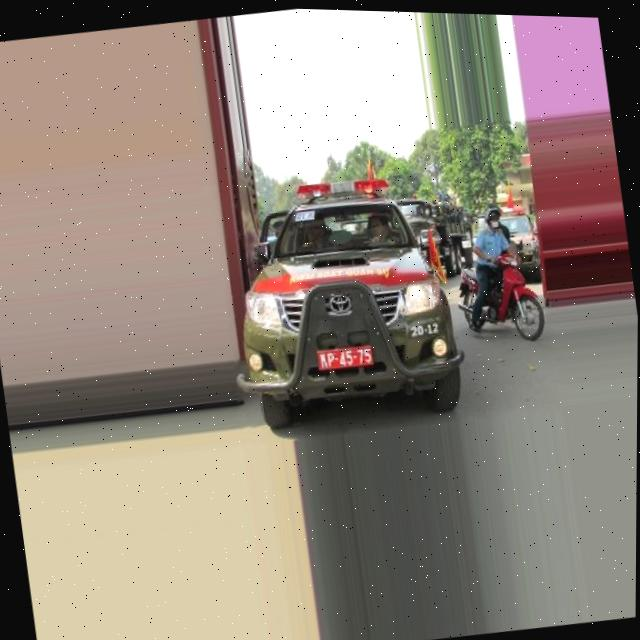car: (219, 177, 476, 444)
motorcycle: (460, 247, 555, 351)
plate: (310, 332, 377, 380)
